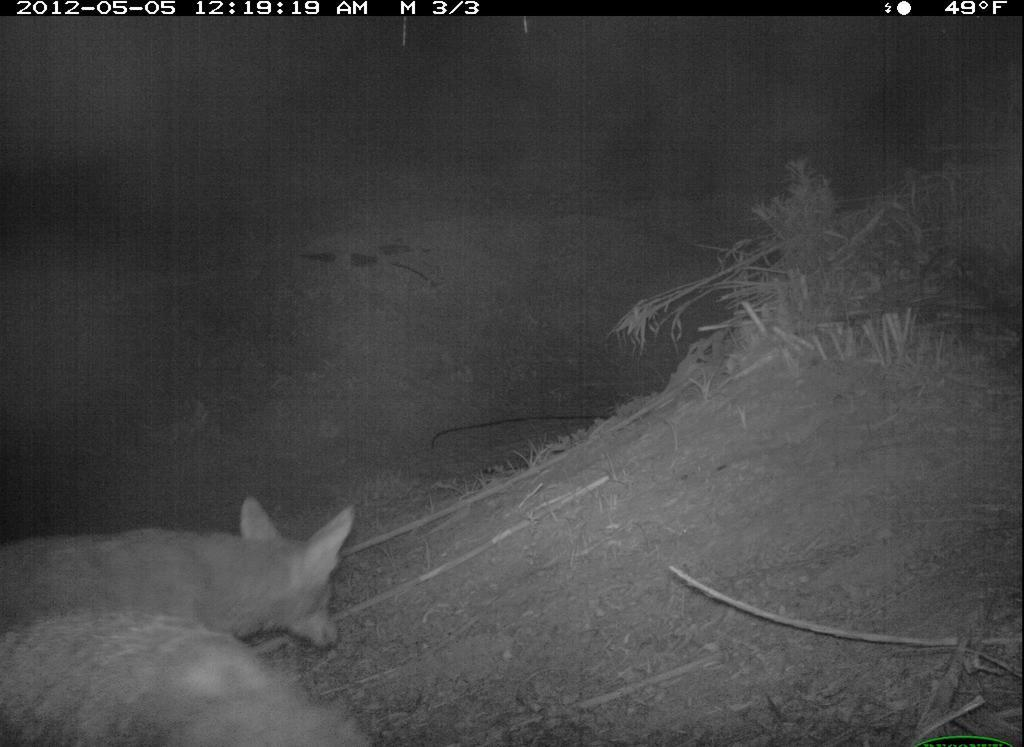coyote: (1, 602, 401, 747), (1, 495, 382, 647)
